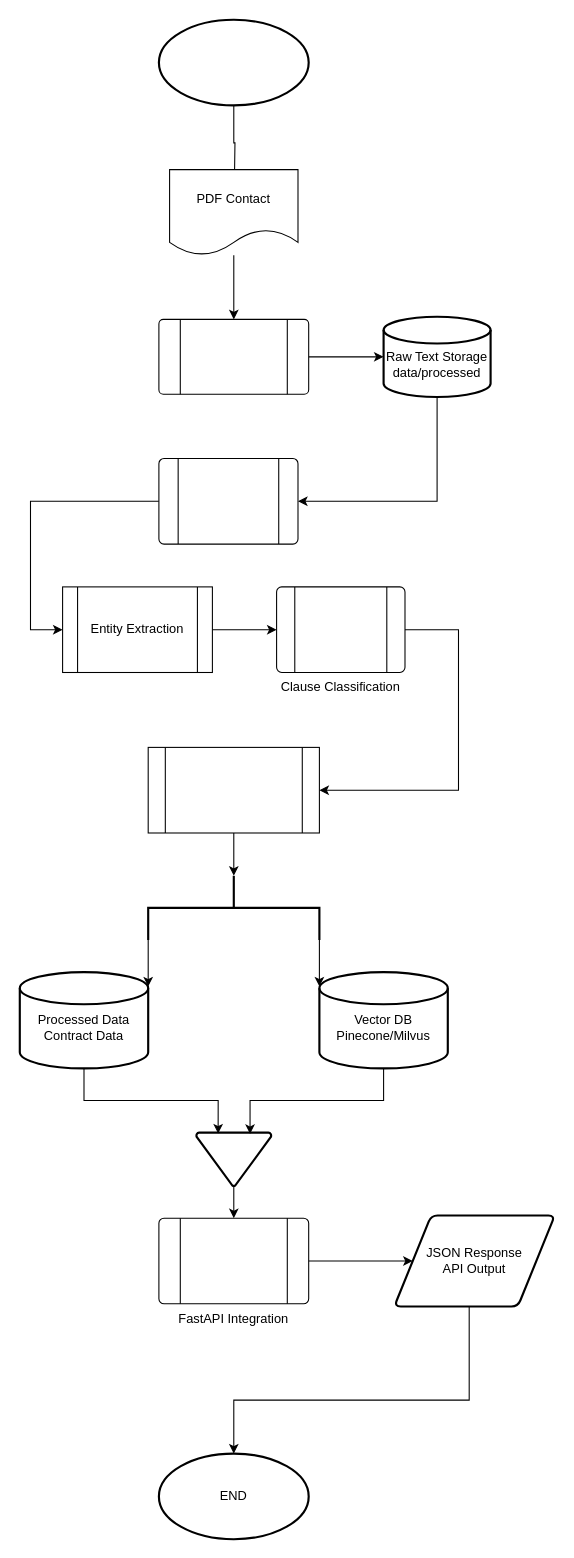
The diagram is 574 pixels wide and 1558 high, and some of its shapes have lost their labels. The centre of each missing label's shape, as x and y in pixels:
"NER Module" goes at (228,500).
"OCR Module" goes at (233,356).
"Risk Analysis" goes at (233,789).
"START" goes at (233,62).
